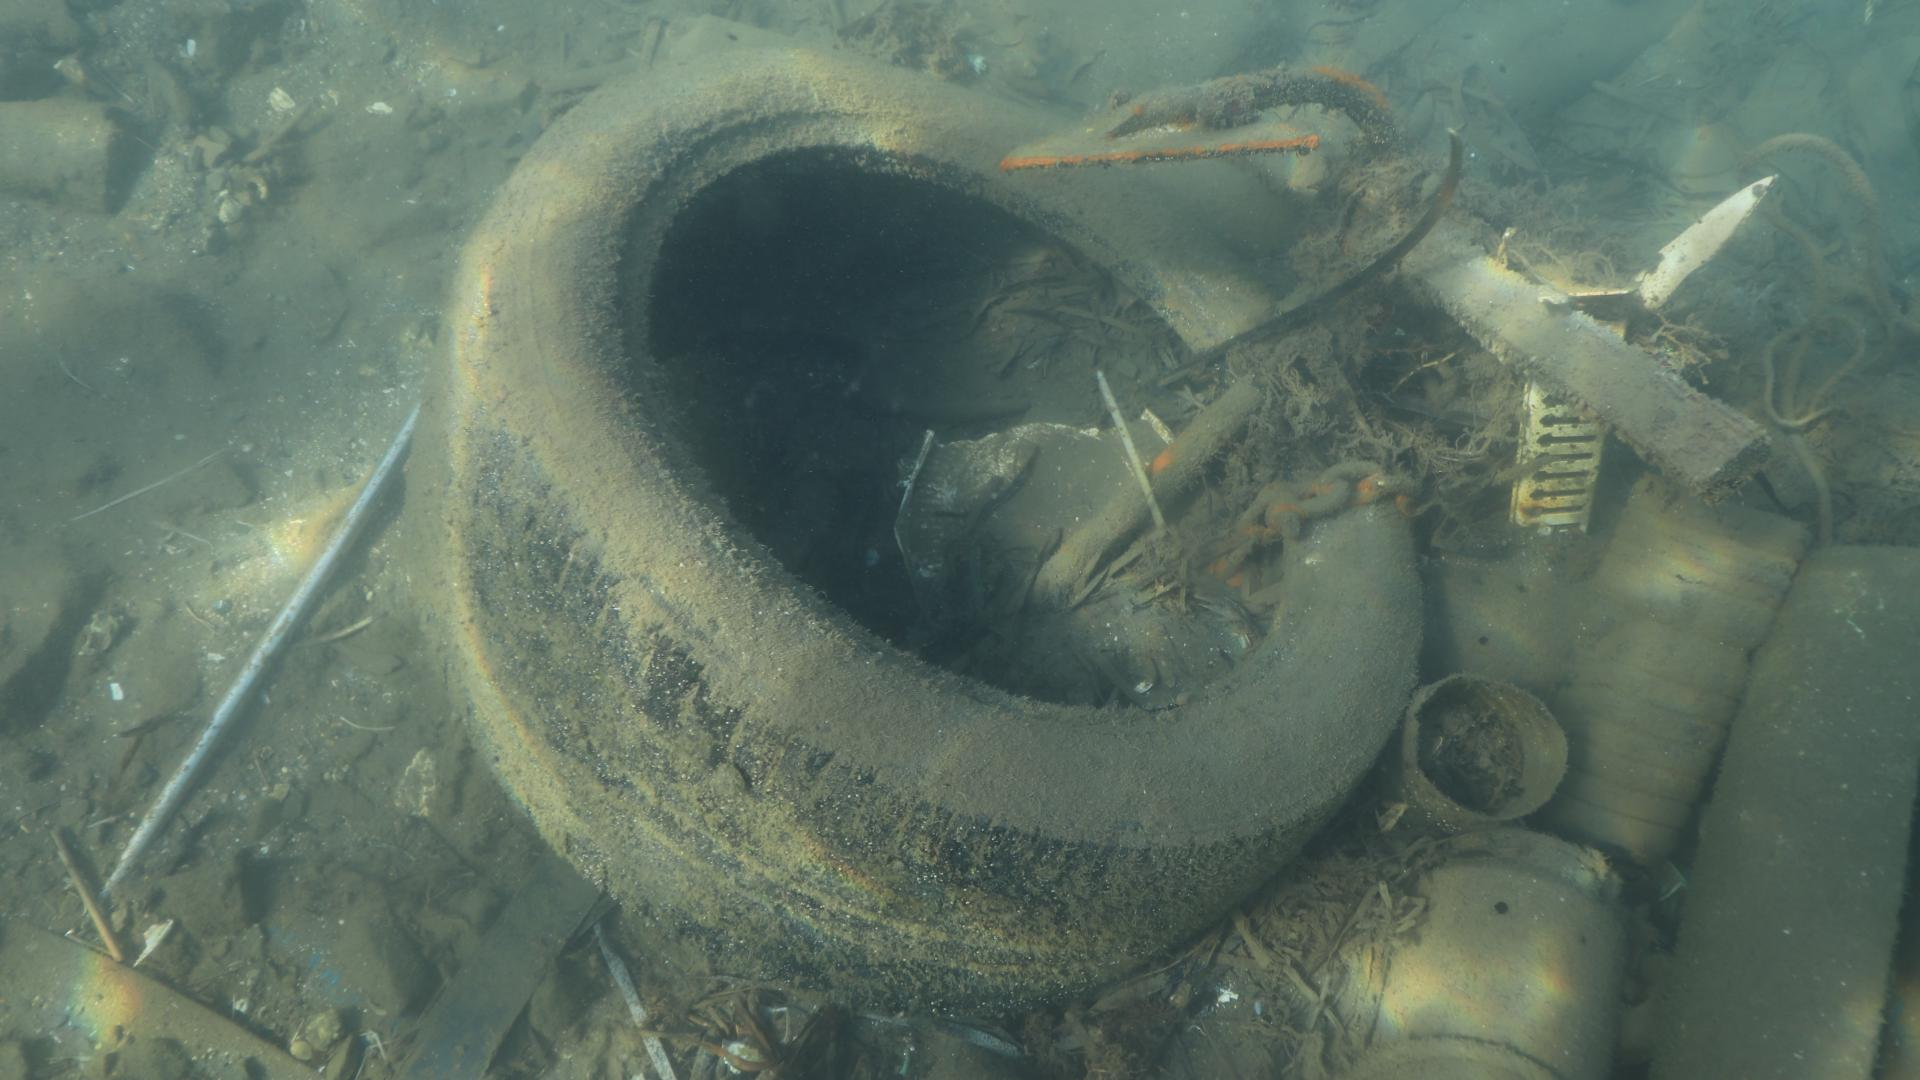tire: (400, 45, 1429, 1011)
wood: (1399, 223, 1774, 508)
